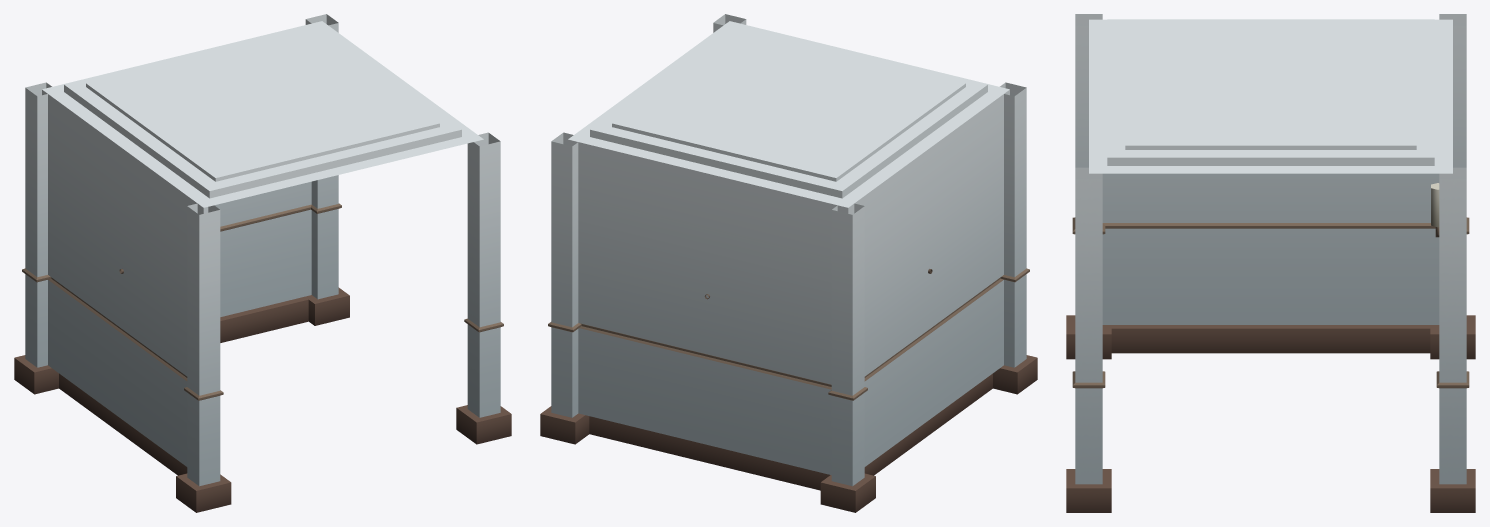
File: Corner.fbx
3 views of the same model, side by side, from view 1: azimuth 30°, elevation 25°; view 2: azimuth 150°, elevation 25°; view 3: azimuth 270°, elevation 25° (orthographic). The views are drawn at different scales.
Parts seen in each view (by area): view 1: Corner; view 2: Corner; view 3: Corner.
Part boxes in pixels (x1,y1,x2,y2): Corner: (14,14,511,512); Corner: (540,14,1037,512); Corner: (1066,14,1475,512).
Size of the model in its own units: 338 by 311 by 338.
